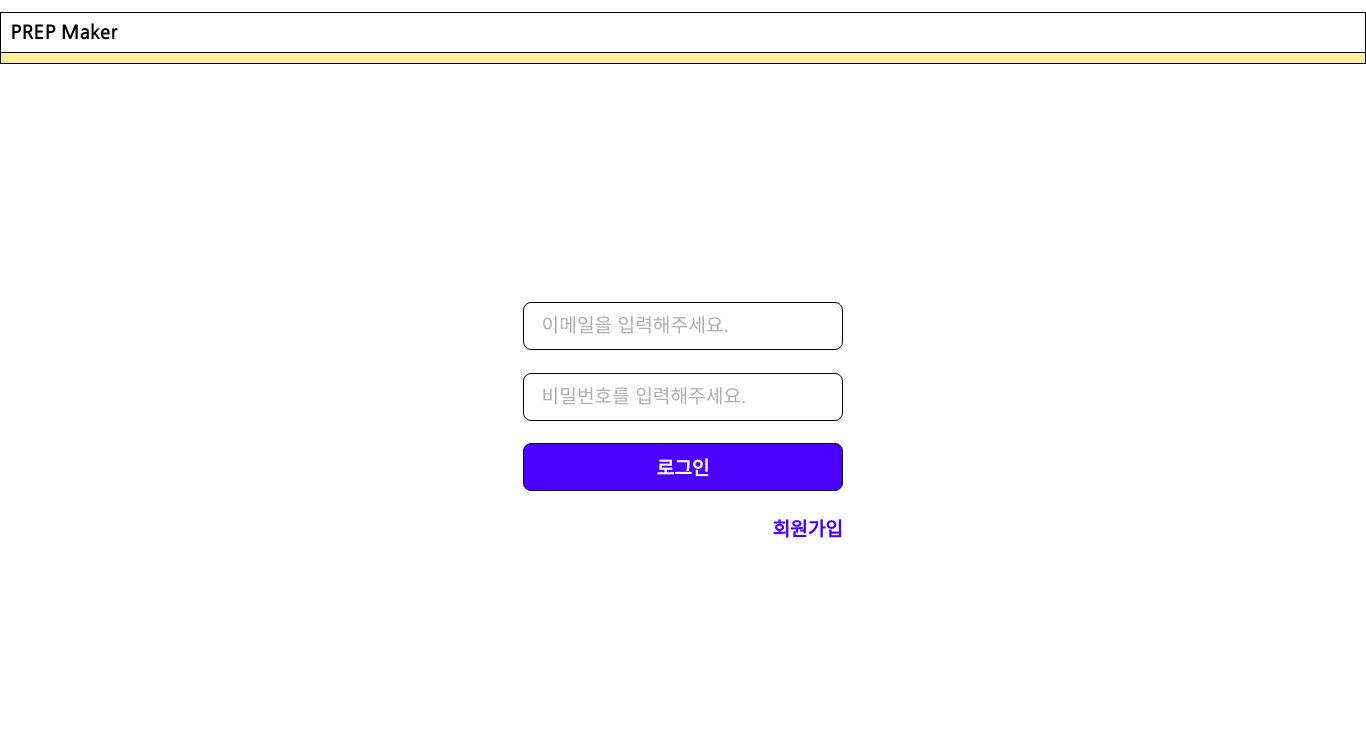
App › Writing Page › 글 제목을 클릭했을 때 › 블록 타입에 따라 문장을 검사한다.
Type "hyemin@email.com" into the field with placeholder "이메일을 입력해주세요." at (683, 326), box x1=532 y1=311 x2=834 y2=341
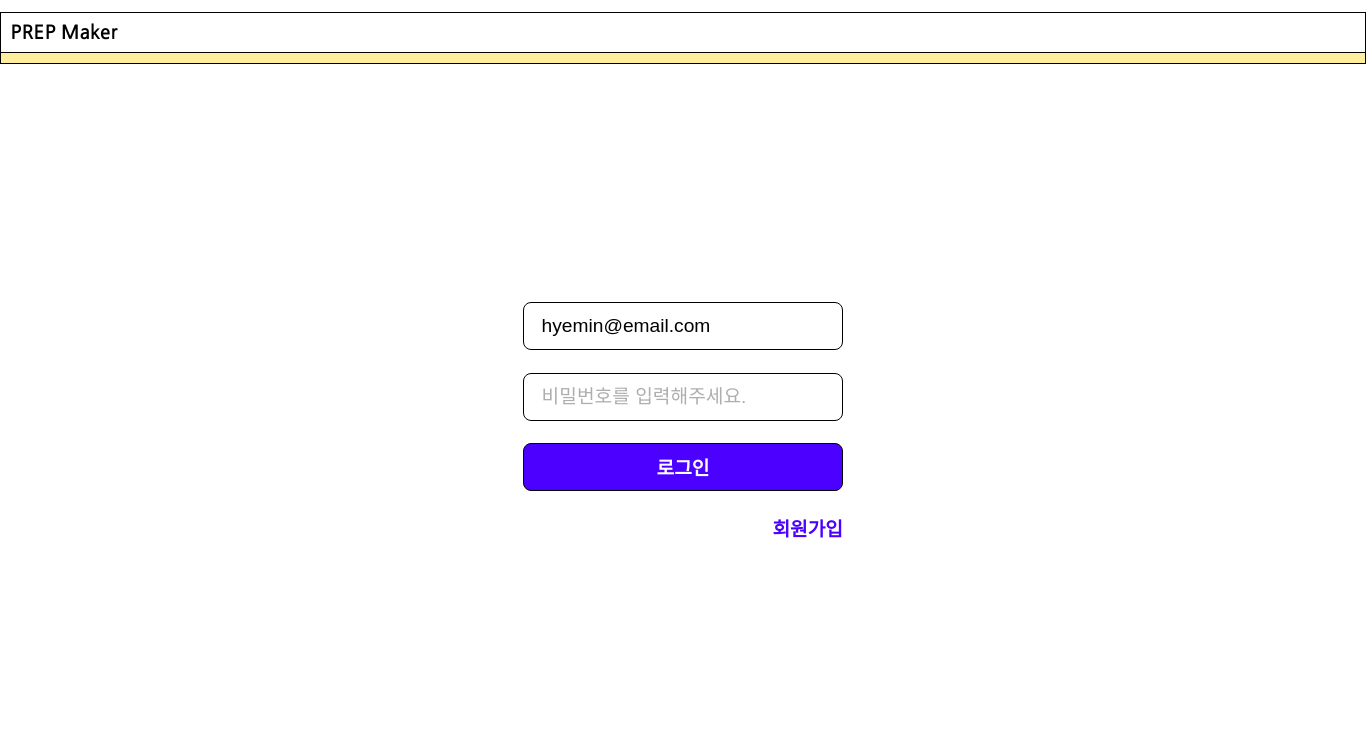
Type "password123" into the password field with placeholder "비밀번호를 입력해주세요." at (683, 397), box x1=532 y1=382 x2=834 y2=412
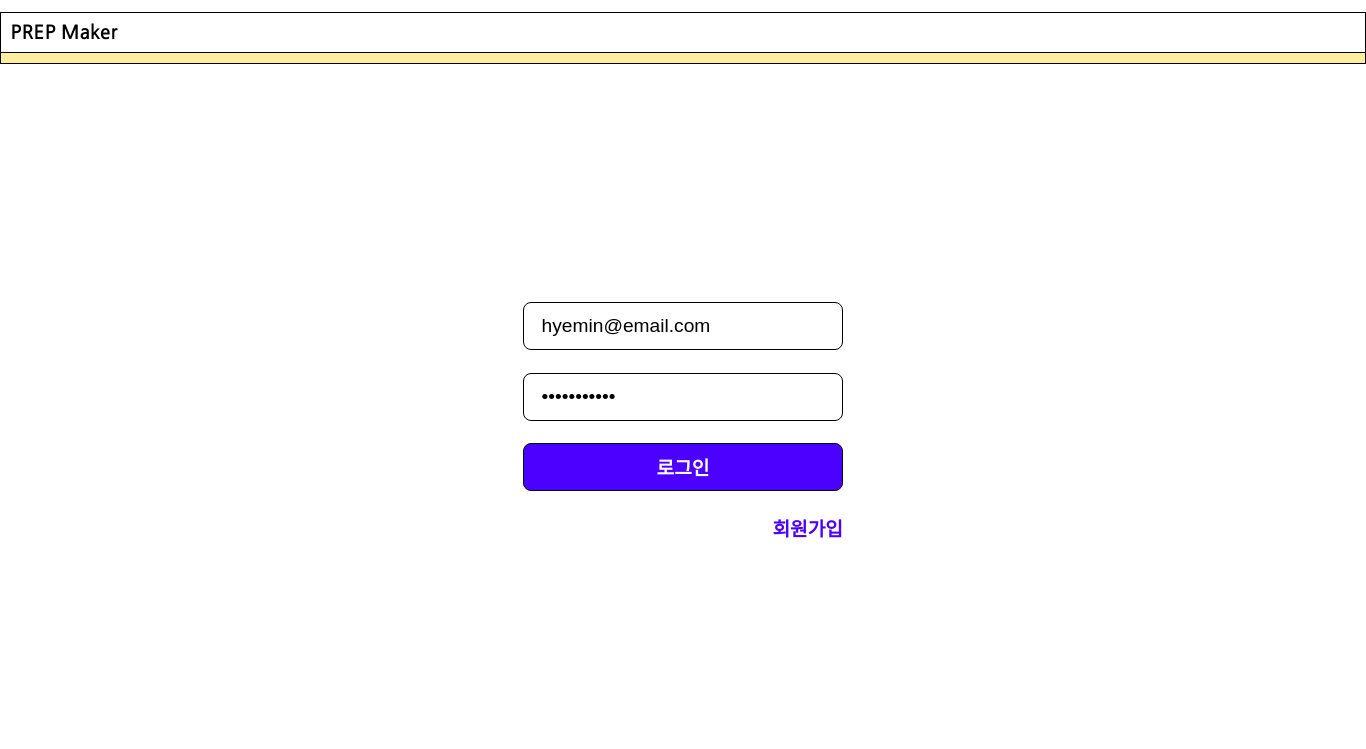
Click the button "로그인" at (683, 467), box x1=523 y1=443 x2=843 y2=491
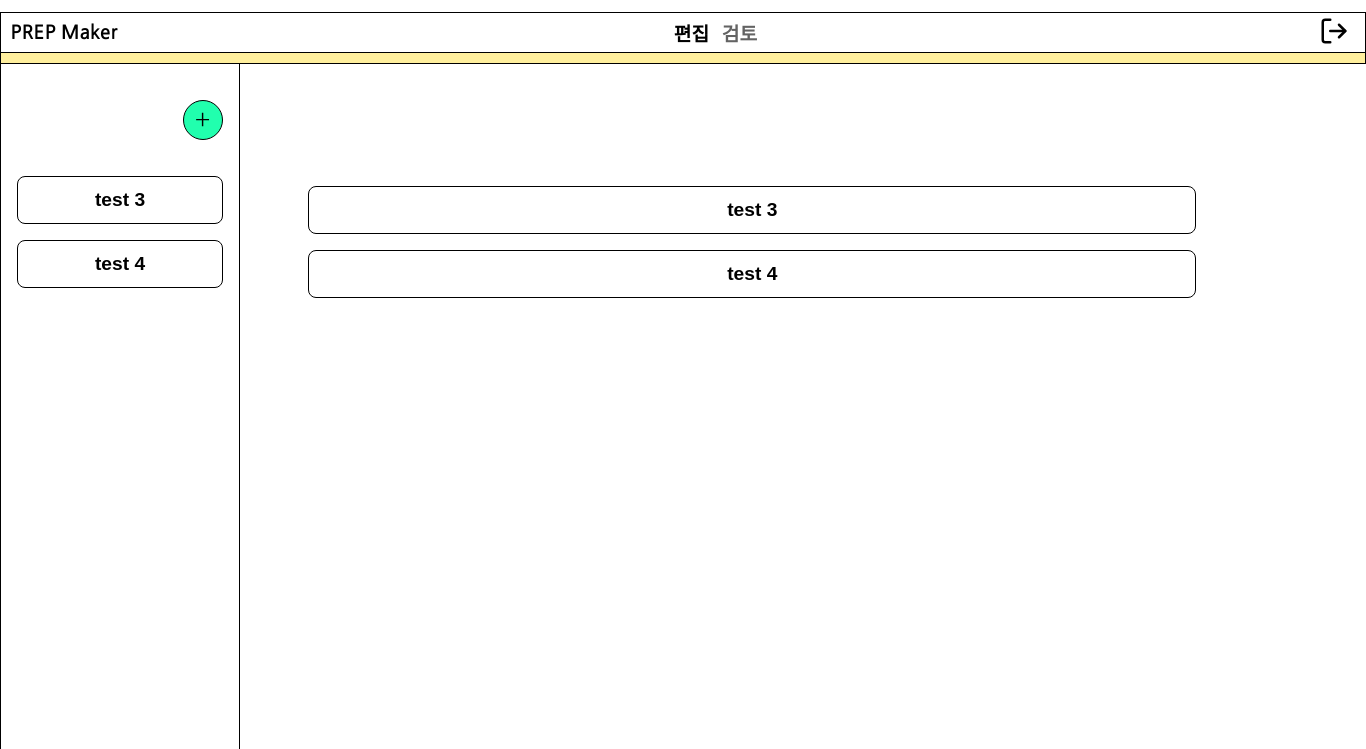
Click the button titled "add writing" at (203, 120), box x1=183 y1=100 x2=223 y2=140
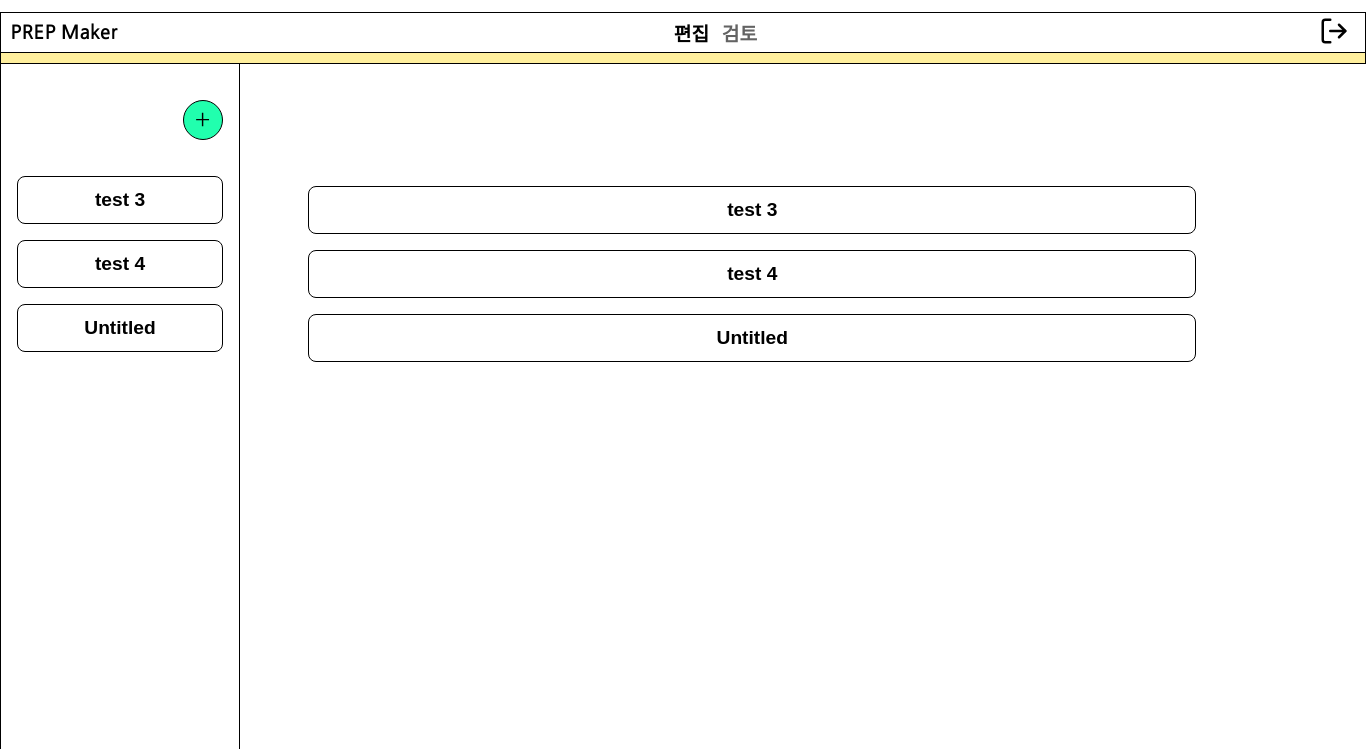
Click the 1st button "Untitled" at (120, 328), box x1=17 y1=304 x2=223 y2=352
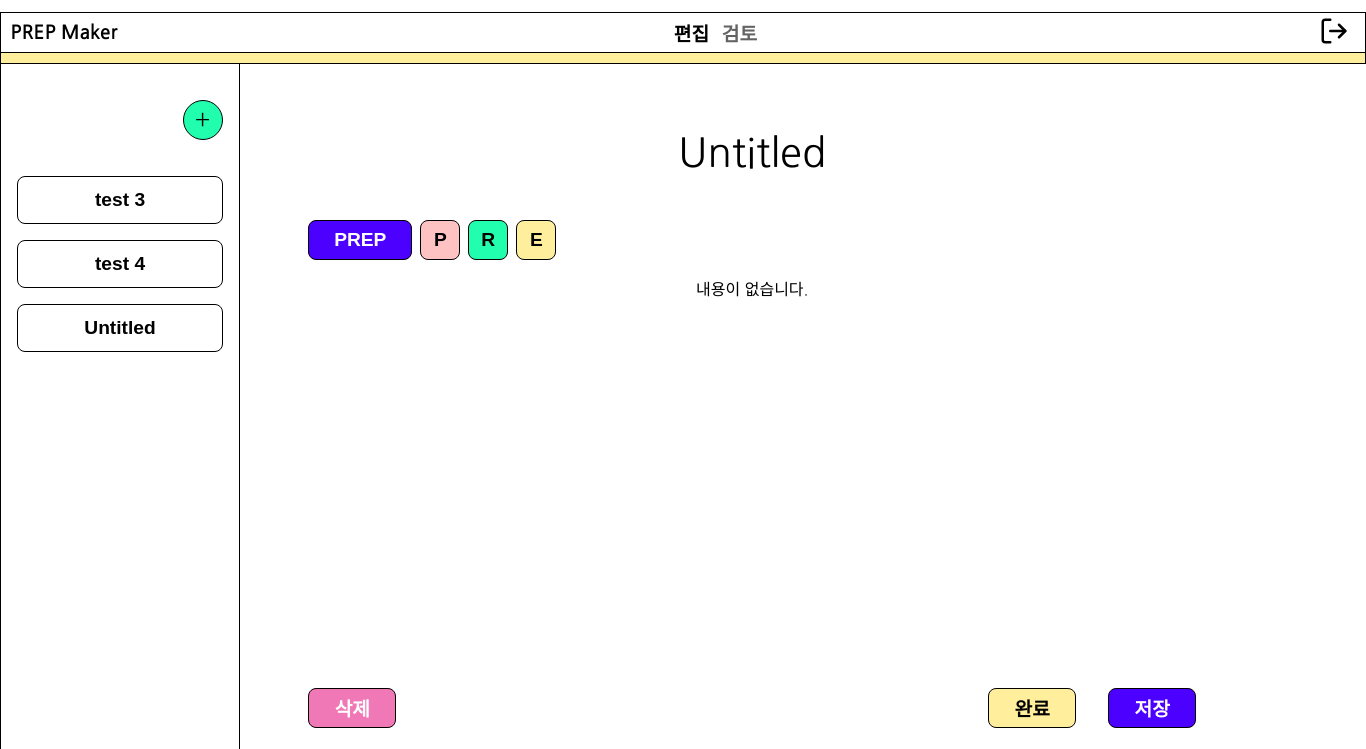
Click the button "PREP" at (360, 240), box x1=308 y1=220 x2=412 y2=260
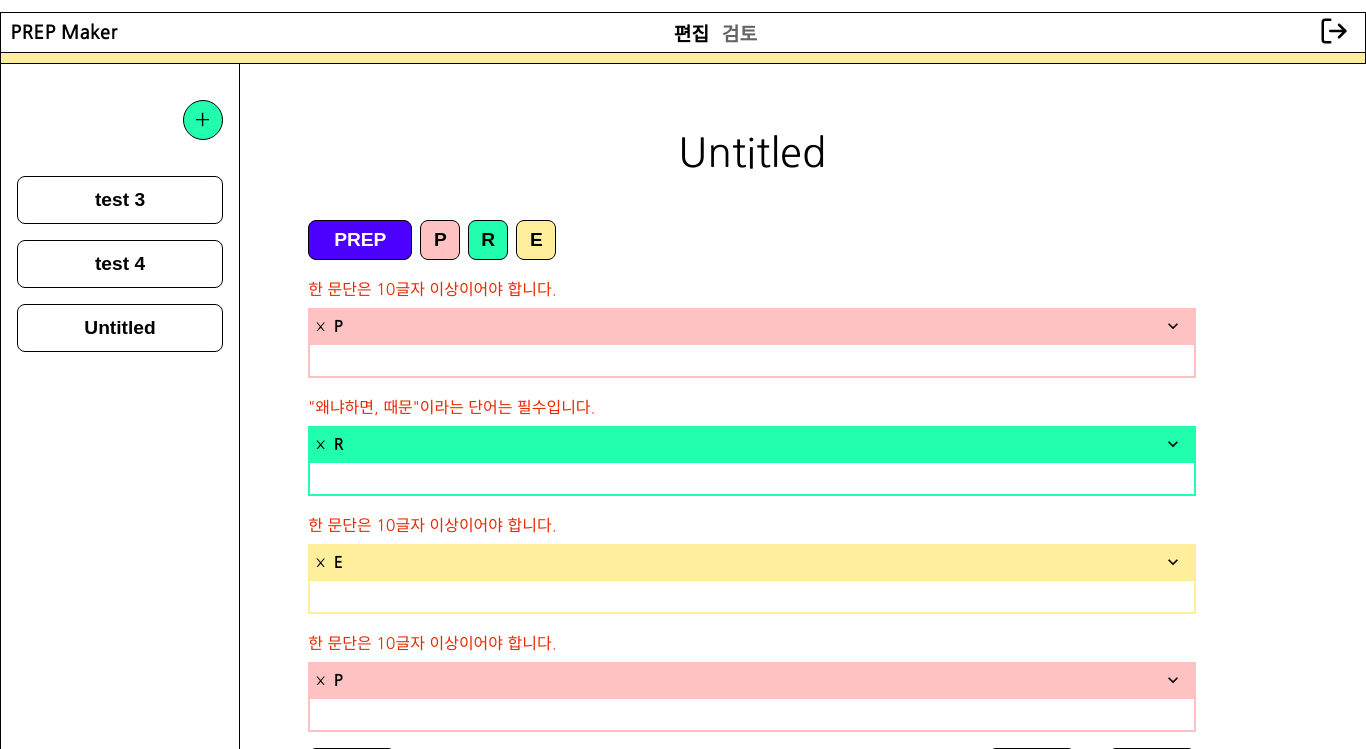
Expected: the 1st text "한 문단은 10글자 이상이어야 합니다." is shown, x1=308 y1=281 x2=557 y2=297
Expected: the text "\"왜냐하면, 때문\"이라는 단어는 필수입니다." is shown, x1=308 y1=399 x2=595 y2=415
